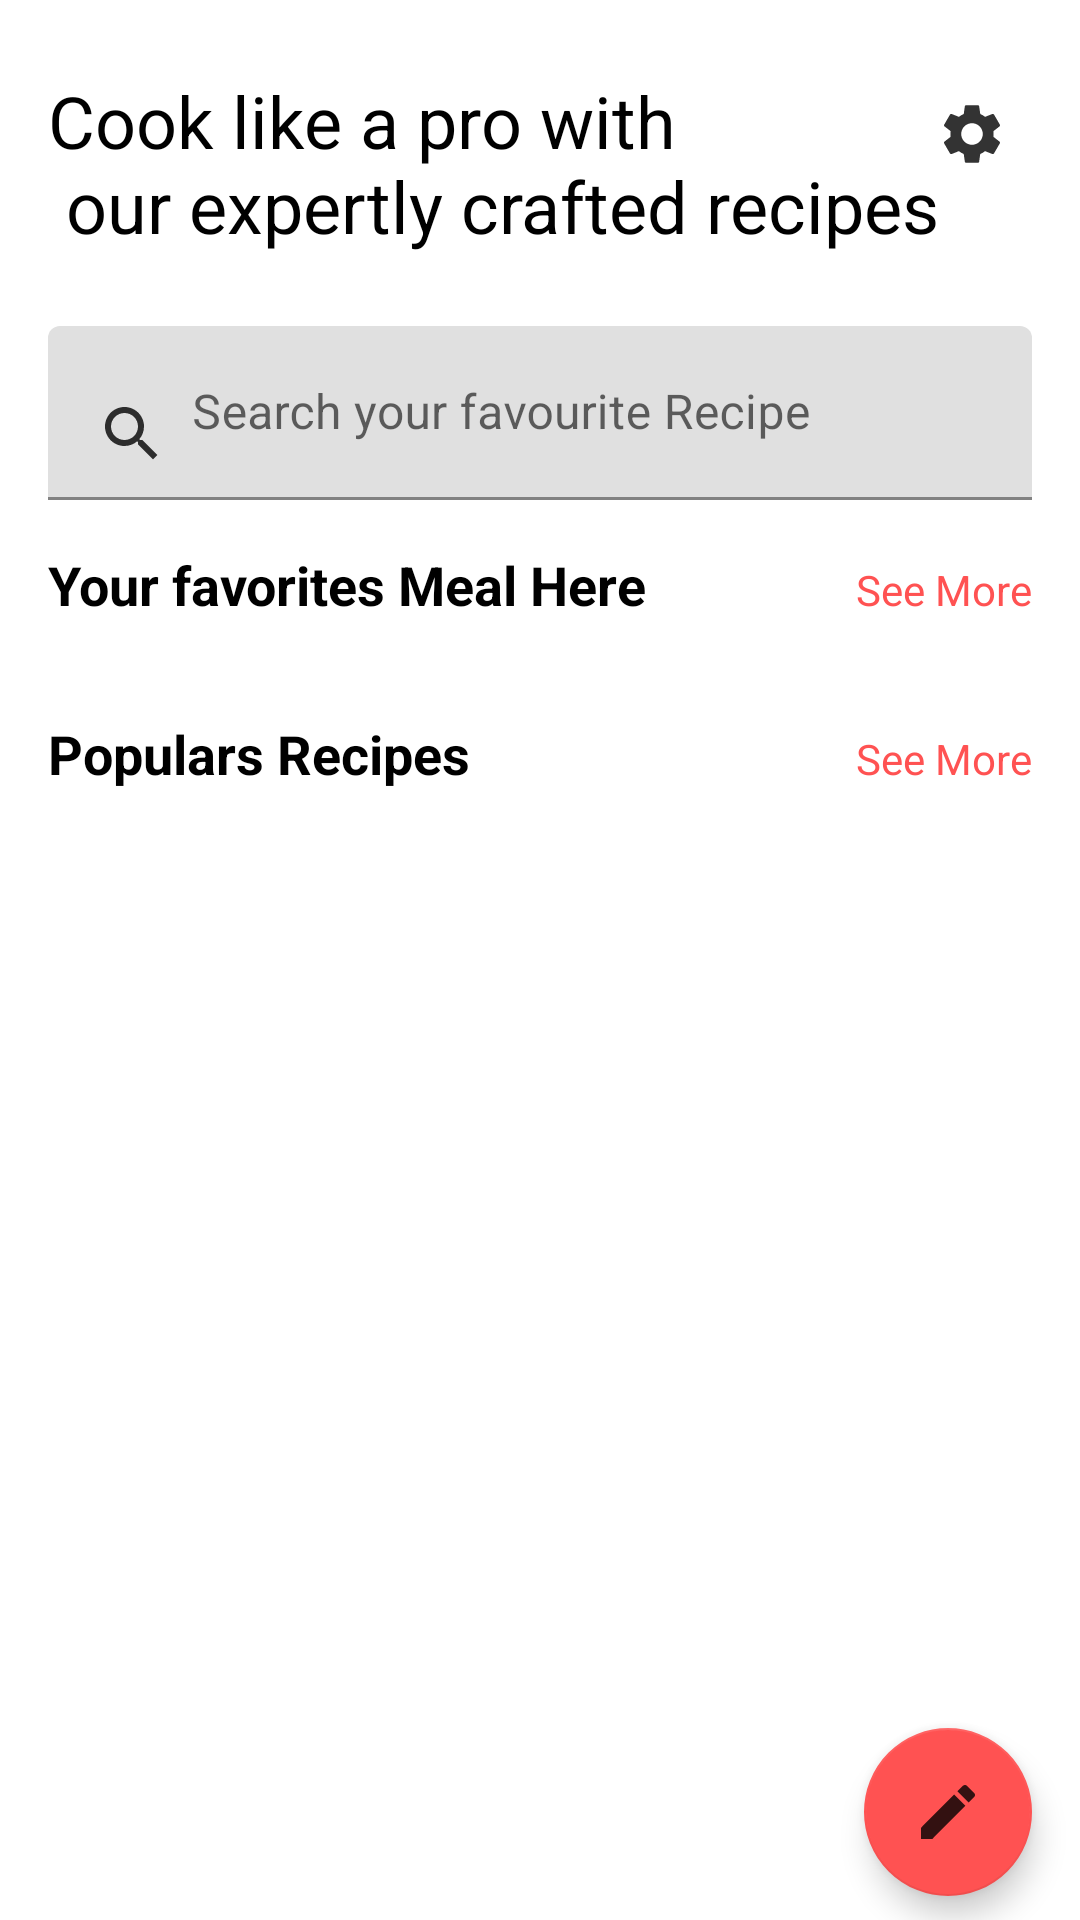

Where to tap for icons on this 1080w x 1920h app screen, as (x,y):
edit: (948,1812)
setting: (972,134)
